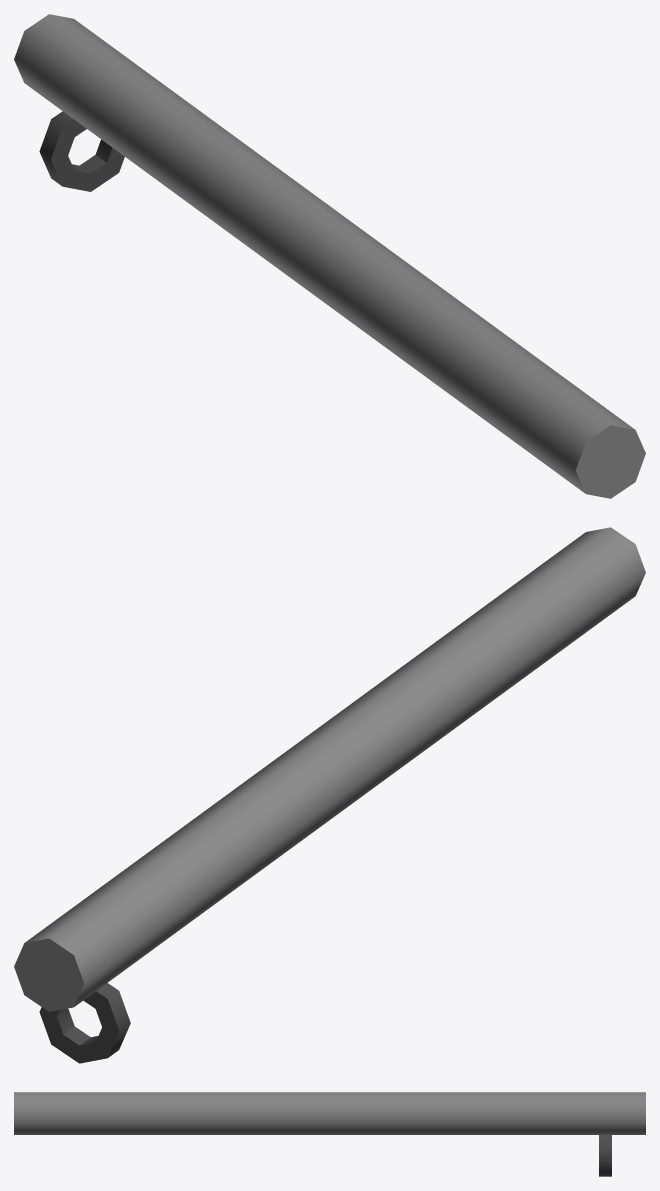
Rendered from rod_main.FBX.
3 views of the same model, one above another, from view 1: azimuth 30°, elevation 25°; view 2: azimuth 150°, elevation 25°; view 3: azimuth 270°, elevation 25° (orthographic). The views are drawn at different scales.
Visible parts, largest first — view 1: rod_main; view 2: rod_main; view 3: rod_main.
Part boxes in pixels (<box>): rod_main: <box>14,14,645,498</box>; rod_main: <box>14,527,645,1063</box>; rod_main: <box>14,1092,645,1176</box>.
Size of the model in its own units: 2.02 by 3.56 by 24.58.
